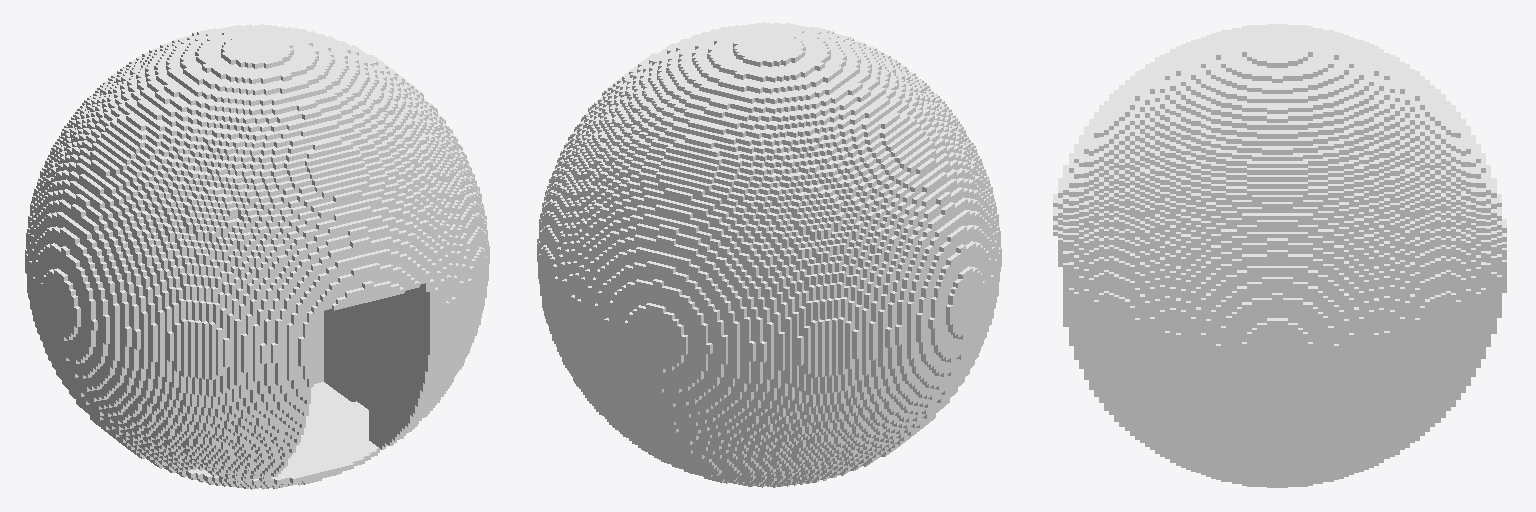
File: Parks.obj
The picture shows the model from 3 angles: view 1: azimuth 30°, elevation 25°; view 2: azimuth 150°, elevation 25°; view 3: azimuth 270°, elevation 25°; orthographic projection.
Parts seen in each view (by area): view 1: object 1; view 2: object 1; view 3: object 1.
Part boxes in pixels (bbox=[...]): object 1: bbox=[25, 24, 489, 489]; object 1: bbox=[537, 22, 1001, 487]; object 1: bbox=[1053, 24, 1506, 487].
Size of the model in its own units: 9 by 9 by 8.9.